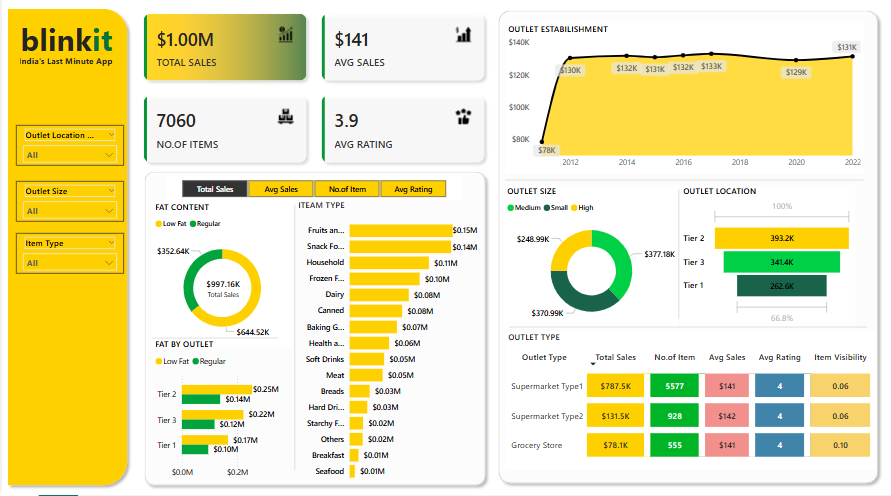

This screenshot's page, from the dashboard's own definition file:
{"tool":"powerbi","page":{"name":"Page 1","canvas":[1400,800],"ordinal":0},"visuals":[{"type":"shape","box":[0,25.2,206.3,768.5],"z":0},{"type":"textbox","box":[12.6,44.1,178,100.8],"z":1000},{"type":"textbox","box":[22,102.4,165.4,36.2],"z":2000},{"type":"cardVisual","fields":{"Data":["BlinkIT Grocery Data.Total Sales","BlinkIT Grocery Data.Avg Sales","BlinkIT Grocery Data.No.of Item","BlinkIT Grocery Data.Avg Rating"]},"box":[206.3,25.2,570.1,269.3],"z":3000},{"type":"shape","box":[215.7,281.9,554.3,511.8],"z":4000},{"type":"donutChart","title":"FAT CONTENT","fields":{"Y":["BlinkIT Grocery Data.Total Sales"],"Category":["BlinkIT Grocery Data.Item Fat Content"]},"box":[236.1,337.7,221.3,229.5],"z":5000},{"type":"slicer","fields":{"Values":["MATRIX.MATRIX"]},"box":[258.3,297.6,464.6,39.4],"z":6000},{"type":"cardVisual","fields":{"Data":["BlinkIT Grocery Data.Total Sales"]},"box":[291.3,426.8,115,96.1],"z":7000},{"type":"clusteredBarChart","title":"FAT BY OUTLET","fields":{"Y":["BlinkIT Grocery Data.Total Sales"],"Category":["BlinkIT Grocery Data.Outlet Location Type"],"Series":["BlinkIT Grocery Data.Item Fat Content"]},"box":[236.1,552.5,221.3,229.5],"z":8000},{"type":"clusteredBarChart","title":"ITEAM TYPE","fields":{"Category":["BlinkIT Grocery Data.Item Type"],"Y":["BlinkIT Grocery Data.Total Sales"]},"box":[460.7,334.4,291.8,454.1],"z":9000},{"type":"shape","box":[236.1,449.2,198.4,208.2],"z":9500},{"type":"shape","box":[349.2,342.6,223,418],"z":10000},{"type":"shape","box":[773.4,29.1,615.2,762],"z":12000},{"type":"lineChart","title":"OUTLET ESTABILISHMENT","fields":{"Category":["BlinkIT Grocery Data.Outlet Establishment Year"],"Y":["BlinkIT Grocery Data.Total Sales"]},"box":[792.1,56.7,565.4,237.8],"z":13000},{"type":"donutChart","title":"OUTLET SIZE","fields":{"Y":["BlinkIT Grocery Data.Total Sales"],"Category":["BlinkIT Grocery Data.Outlet Size"]},"box":[790.2,311.5,275.4,226.2],"z":14000},{"type":"shape","box":[792.4,243,564.6,122.8],"z":15000},{"type":"funnel","title":"OUTLET LOCATION","fields":{"Category":["BlinkIT Grocery Data.Outlet Location Type"],"Y":["Sum(BlinkIT Grocery Data.Sales)"]},"box":[1067.1,311.4,275.9,225.3],"z":16000},{"type":"shape","box":[954.4,320.3,222.8,202.5],"z":17000},{"type":"pivotTable","title":"OUTLET TYPE","fields":{"Values":["BlinkIT Grocery Data.Total Sales","BlinkIT Grocery Data.No.of Item","BlinkIT Grocery Data.Avg Sales","BlinkIT Grocery Data.Avg Rating","Avg(BlinkIT Grocery Data.Item Visibility)"],"Rows":["BlinkIT Grocery Data.Outlet Type"]},"box":[791.8,541,583.6,218],"z":18000},{"type":"shape","box":[798.4,473.8,563.9,123],"z":19000},{"type":"slicer","fields":{"Values":["BlinkIT Grocery Data.Outlet Location Type"]},"box":[21.3,218,170.5,63.9],"z":20000},{"type":"slicer","fields":{"Values":["BlinkIT Grocery Data.Outlet Size"]},"box":[21.3,304.9,170.5,63.9],"z":21000},{"type":"slicer","fields":{"Values":["BlinkIT Grocery Data.Item Type"]},"box":[21.3,386.9,170.5,63.9],"z":22000}]}

Visuals, with their boxes in screenshot pixels (x1, y1, x2, y2), scaled from the page's 1400x800 canvas onto the 891x496 screenshot:
shape: BBox(0, 16, 131, 492)
textbox: BBox(8, 27, 121, 90)
textbox: BBox(14, 63, 119, 86)
cardVisual - BlinkIT Grocery Data.Total Sales x BlinkIT Grocery Data.Avg Sales: BBox(131, 16, 494, 183)
shape: BBox(137, 175, 490, 492)
"FAT CONTENT" donutChart: BBox(150, 209, 291, 352)
slicer - MATRIX.MATRIX: BBox(164, 185, 460, 209)
cardVisual - BlinkIT Grocery Data.Total Sales: BBox(185, 265, 259, 324)
"FAT BY OUTLET" clusteredBarChart: BBox(150, 343, 291, 485)
"ITEAM TYPE" clusteredBarChart: BBox(293, 207, 479, 489)
shape: BBox(150, 279, 277, 408)
shape: BBox(222, 212, 364, 472)
shape: BBox(492, 18, 884, 490)
"OUTLET ESTABILISHMENT" lineChart: BBox(504, 35, 864, 183)
"OUTLET SIZE" donutChart: BBox(503, 193, 678, 333)
shape: BBox(504, 151, 864, 227)
"OUTLET LOCATION" funnel: BBox(679, 193, 855, 333)
shape: BBox(607, 199, 749, 324)
"OUTLET TYPE" pivotTable: BBox(504, 335, 875, 471)
shape: BBox(508, 294, 867, 370)
slicer - BlinkIT Grocery Data.Outlet Location Type: BBox(14, 135, 122, 175)
slicer - BlinkIT Grocery Data.Outlet Size: BBox(14, 189, 122, 229)
slicer - BlinkIT Grocery Data.Item Type: BBox(14, 240, 122, 279)
